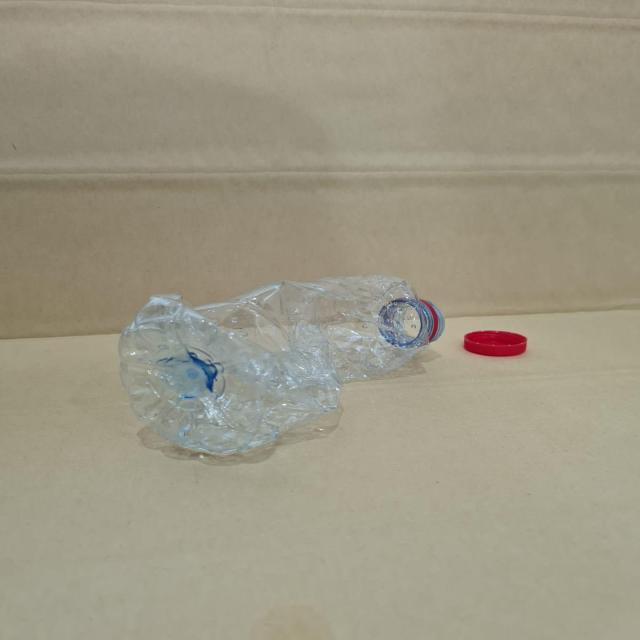bottle: (109, 287, 445, 460)
